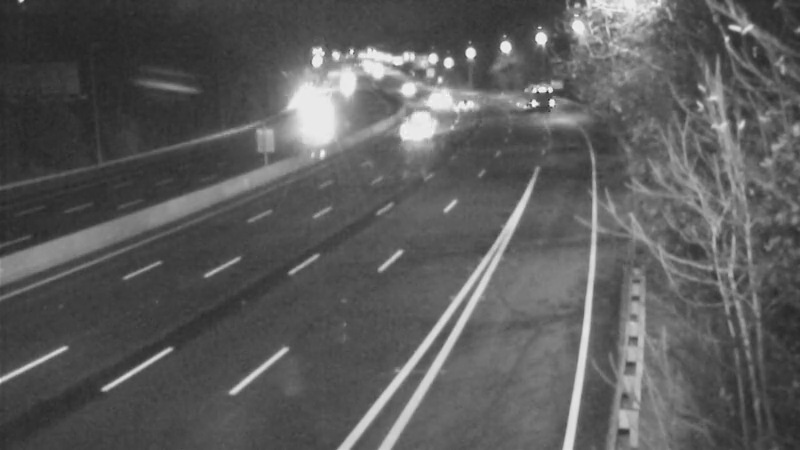vehicle: (387, 62, 437, 112), (519, 70, 569, 120), (410, 72, 460, 122), (440, 80, 490, 130), (393, 96, 443, 146)
